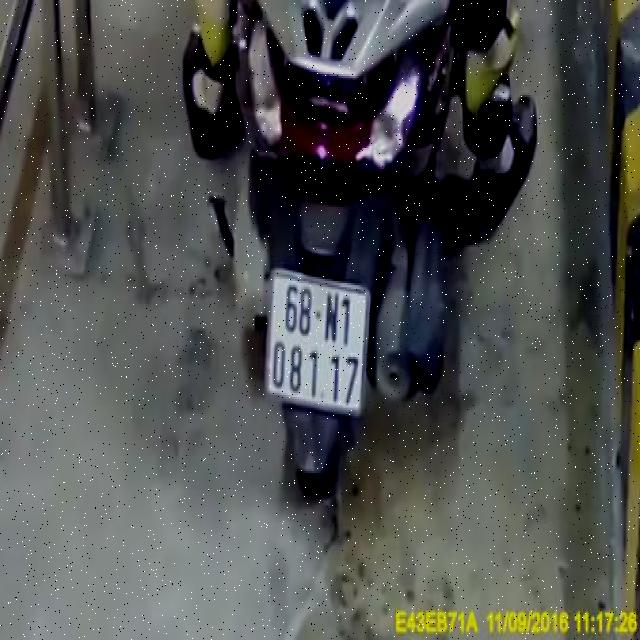0: (271, 340, 288, 390)
1: (306, 350, 319, 400), (342, 298, 352, 346), (330, 353, 339, 405)
6: (282, 284, 300, 338)
7: (344, 354, 360, 406)
8: (296, 287, 314, 338), (289, 342, 304, 398)
N: (324, 292, 341, 341)
